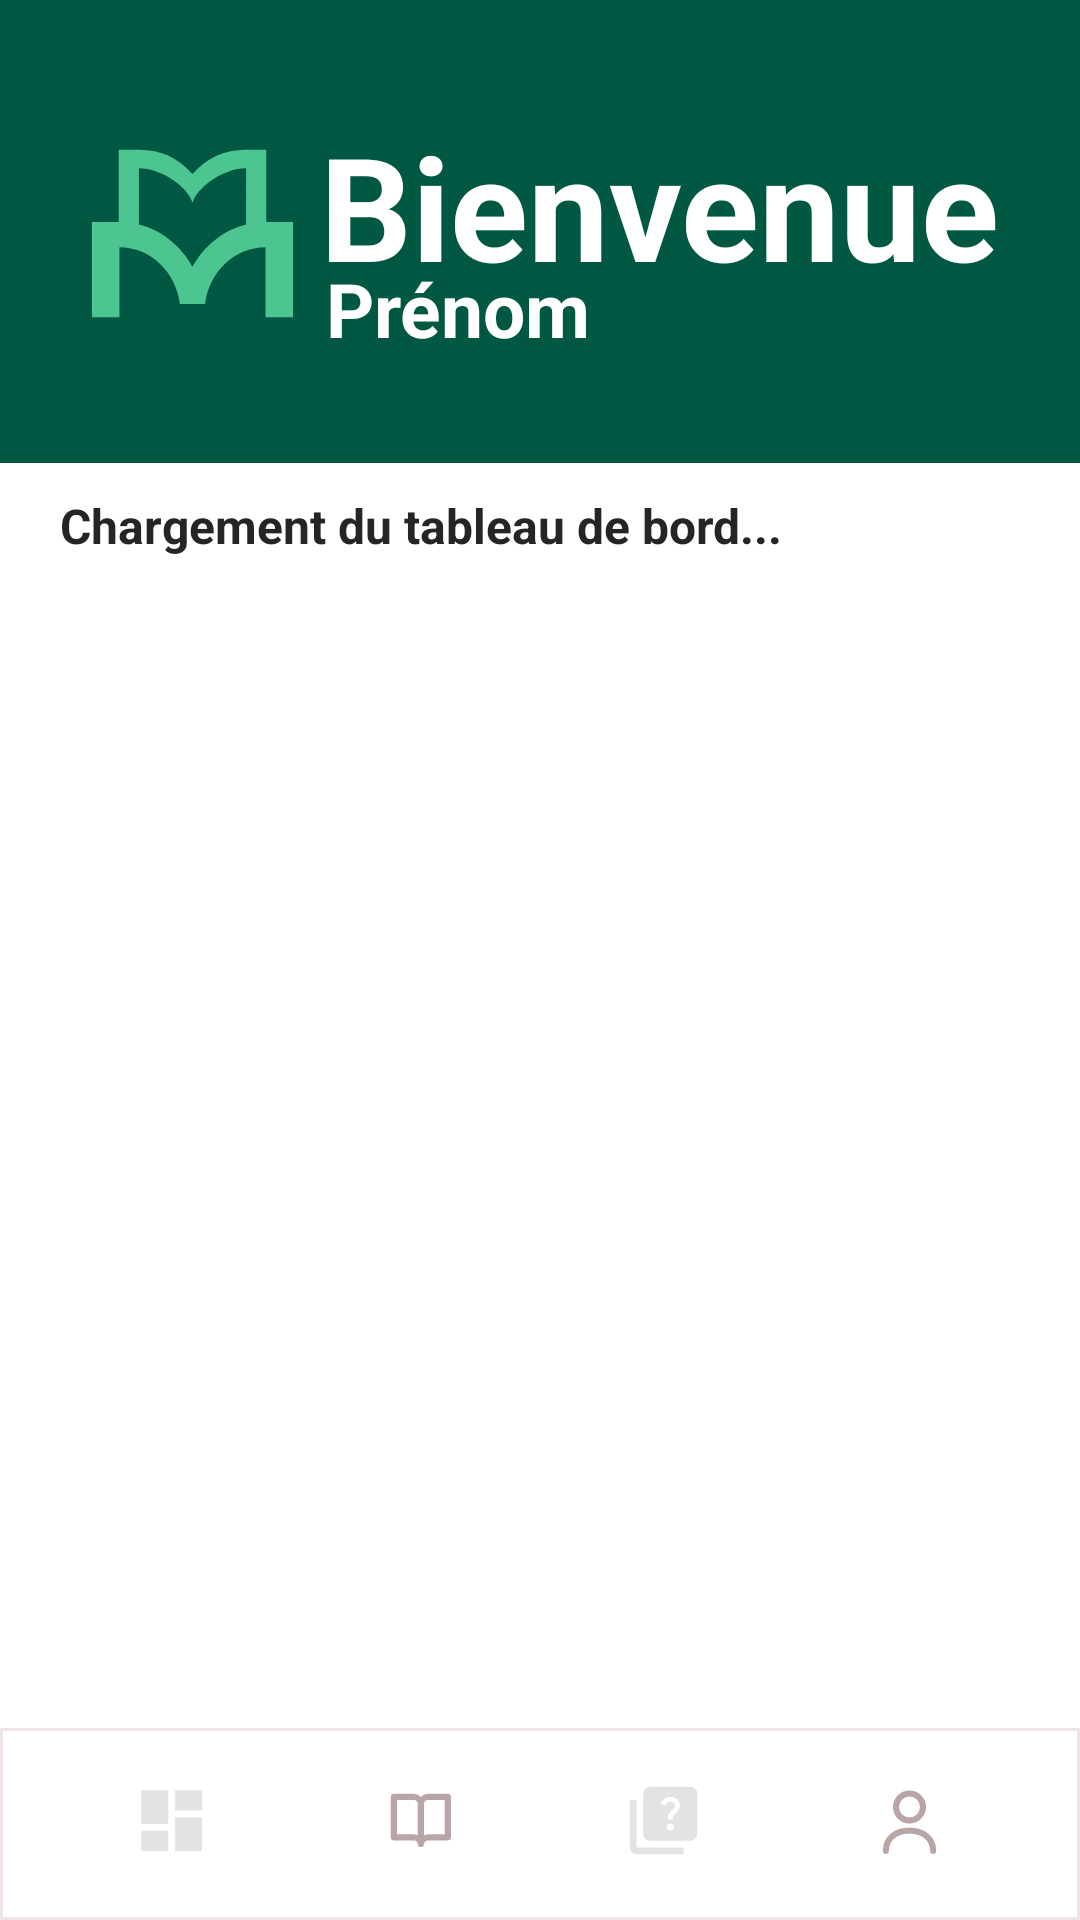

Locate icon controls on the screen. Image size 1080*1920, boxes as (x1, y1, x2, y2).
Compte: (883, 1790, 936, 1854)
Cours: (391, 1794, 451, 1847)
Quiz: (630, 1787, 697, 1854)
Tableau de bord: (142, 1791, 202, 1851)
